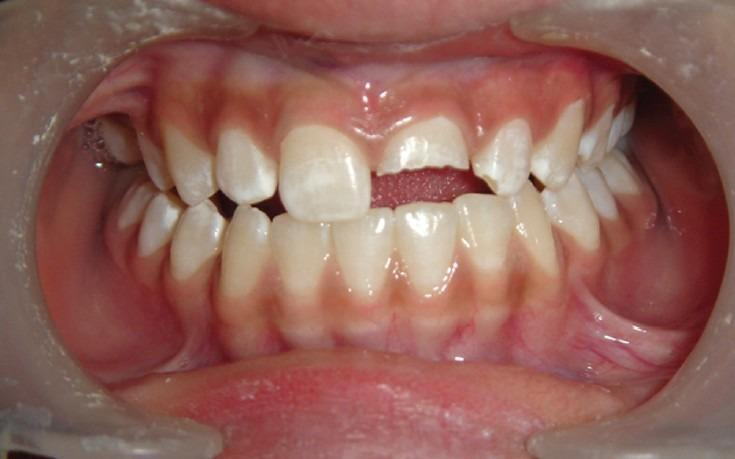Fractured Teeth: (377, 118, 470, 175)
